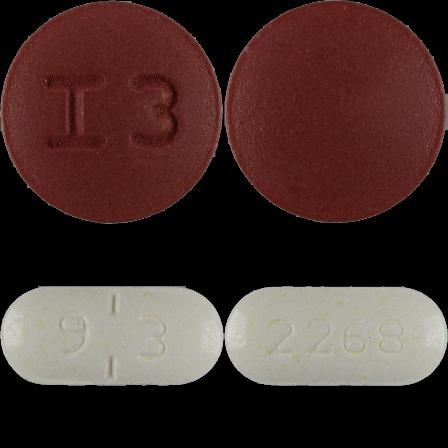66267-020: (0, 0, 224, 224)
